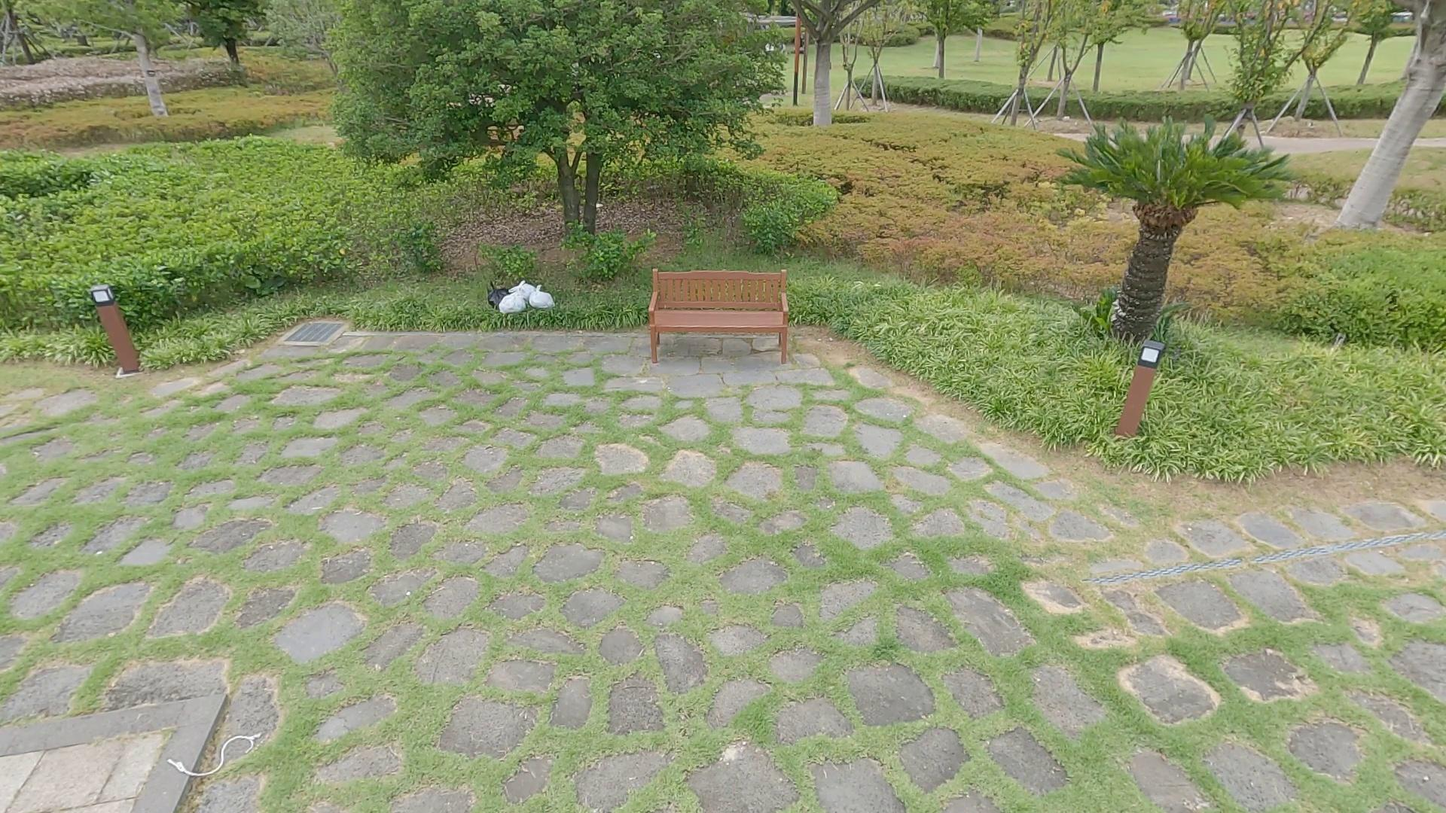trash: (496, 286, 527, 319), (525, 282, 556, 313), (482, 280, 510, 308), (511, 279, 536, 306)
